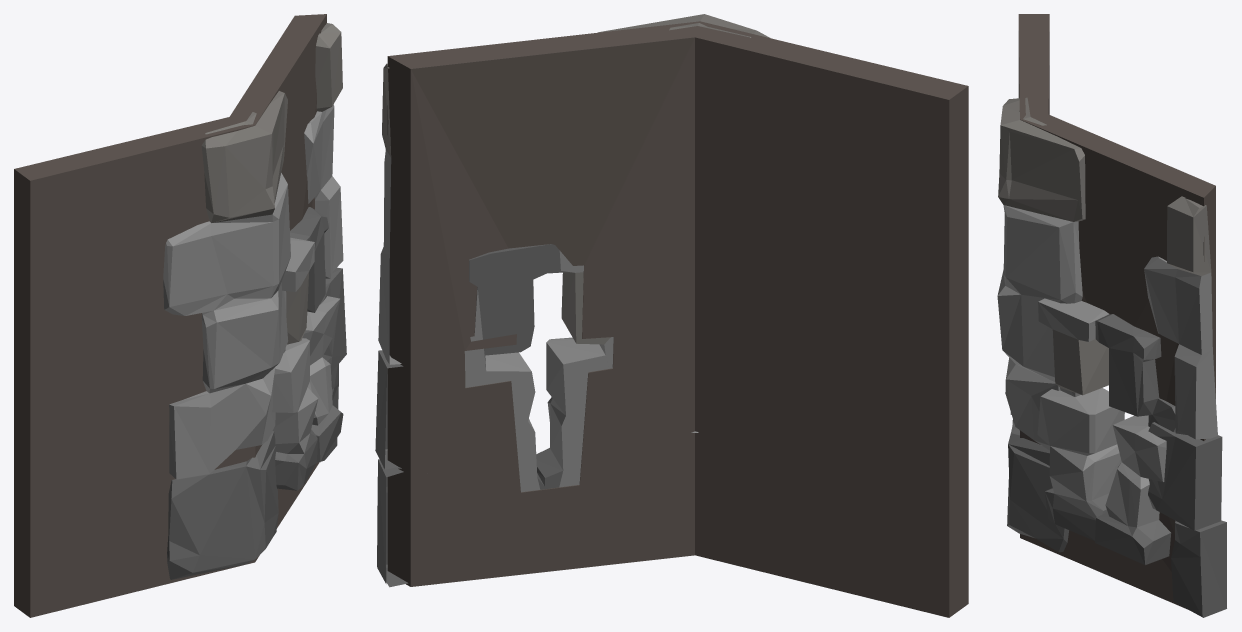
Rendered from MCastle_OctWalls_CrossWindow_02.FBX.
3 views of the same model, side by side, from view 1: azimuth 30°, elevation 25°; view 2: azimuth 150°, elevation 25°; view 3: azimuth 270°, elevation 25° (orthographic). The views are drawn at different scales.
Visible parts, largest first — view 1: MCastle_OctWalls_CrossWindow_02_LOD0; view 2: MCastle_OctWalls_CrossWindow_02_LOD0; view 3: MCastle_OctWalls_CrossWindow_02_LOD0.
Boxes of the visible parts, box(x1,y1,x2,y2) form: MCastle_OctWalls_CrossWindow_02_LOD0: box(14, 14, 346, 617); MCastle_OctWalls_CrossWindow_02_LOD0: box(375, 14, 968, 617); MCastle_OctWalls_CrossWindow_02_LOD0: box(997, 14, 1226, 617).
Size of what is drawn, in the model's own units: 4.37 by 4.47 by 2.22.
